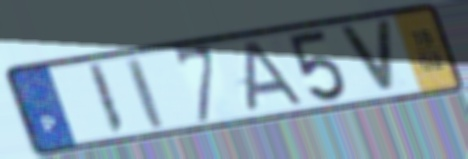5: (285, 26, 350, 105)
7: (172, 43, 221, 127)
A: (240, 38, 309, 115)
I: (121, 54, 168, 131), (84, 60, 129, 138)
V: (334, 19, 398, 94)
